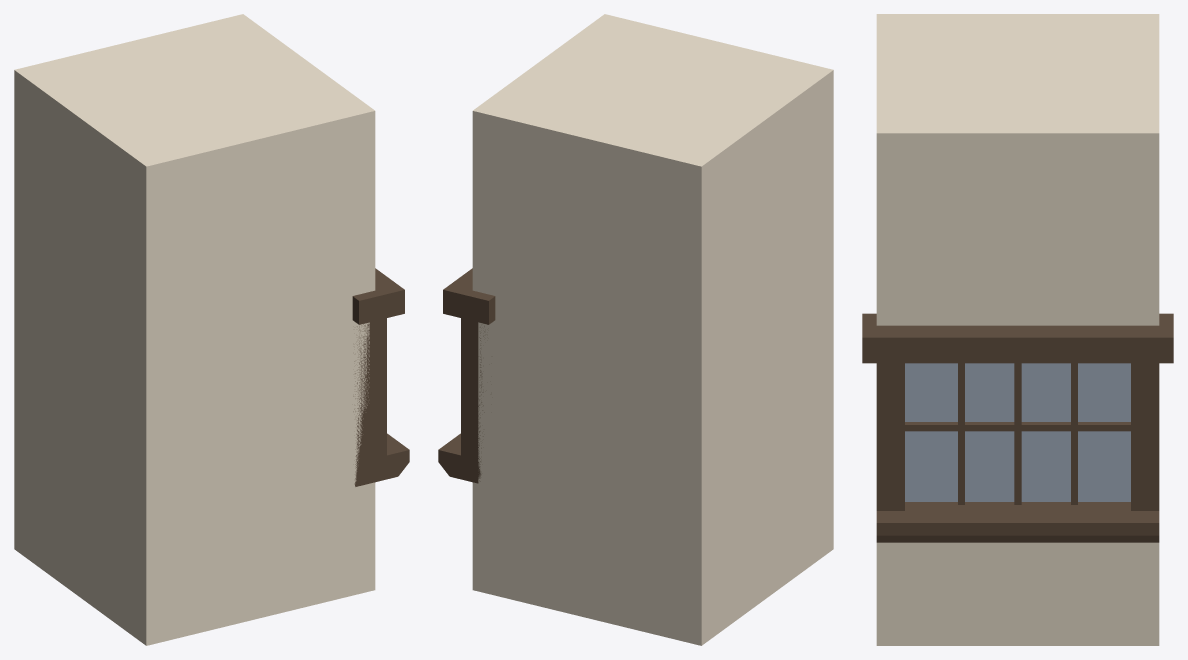
The model's file is Stucco_Window_Double_Narrow_Tall.obj.
The picture shows the model from 3 angles, left to right: view 1: azimuth 30°, elevation 25°; view 2: azimuth 150°, elevation 25°; view 3: azimuth 270°, elevation 25°; orthographic projection. The views are drawn at different scales.
Parts seen in each view (by area): view 1: object1, object3; view 2: object1, object3; view 3: object1, object3, object2.
Part boxes in pixels (left/top/right/bottom): object1: left=14, top=14, right=375, bottom=645; object3: left=352, top=268, right=409, bottom=486; object1: left=472, top=14, right=833, bottom=645; object3: left=438, top=268, right=495, bottom=483; object1: left=876, top=14, right=1159, bottom=645; object3: left=862, top=313, right=1173, bottom=542; object2: left=905, top=363, right=1130, bottom=504.
Bounding box in the file's own units: 1.15 × 2 × 1.1.
